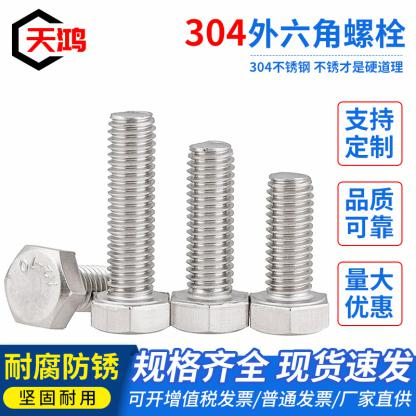FOD: (87, 110, 171, 336), (169, 139, 250, 336), (249, 168, 331, 338), (4, 240, 110, 330)
